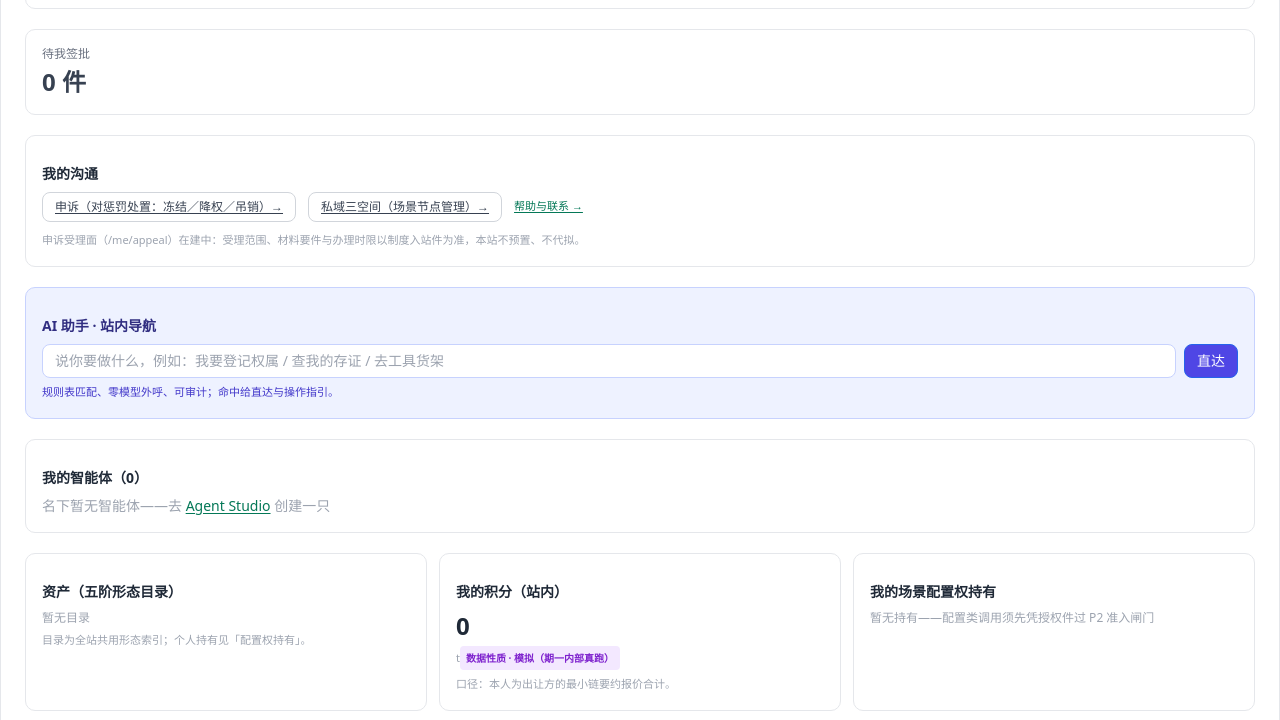
Test: 用户控制台 P1（me.tsx 扩充面） › AI 意图导航：输入 → 命中规则表 → 渲染标题＋直达链接（零模型外呼）
The image size is (1280, 720).
(page scrolled)
Expected: the element with test id "me-assistant" is shown, [25, 286, 1255, 418]
Step 1. Type "我要上架工具" into the field with test id "me-assistant-input" → [609, 360], box [42, 344, 1176, 378]
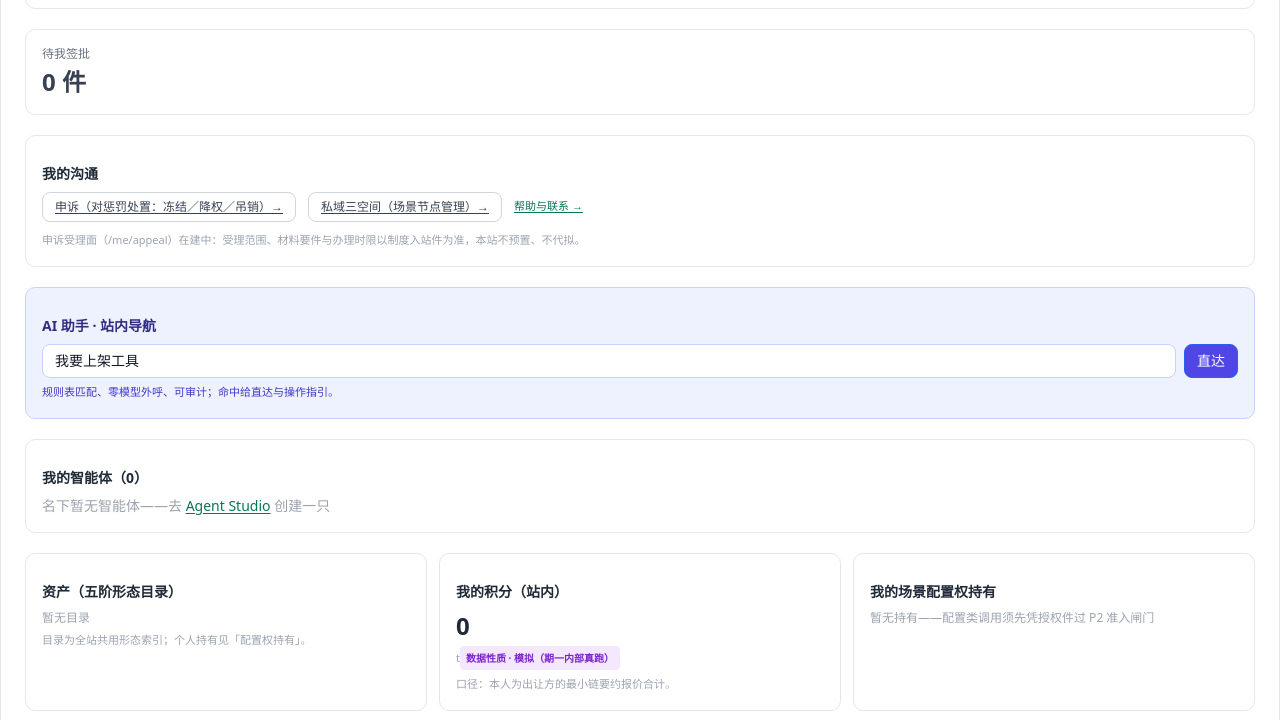
Step 2. Click the button with test id "me-assistant-go" → [1211, 360], box [1184, 344, 1238, 378]
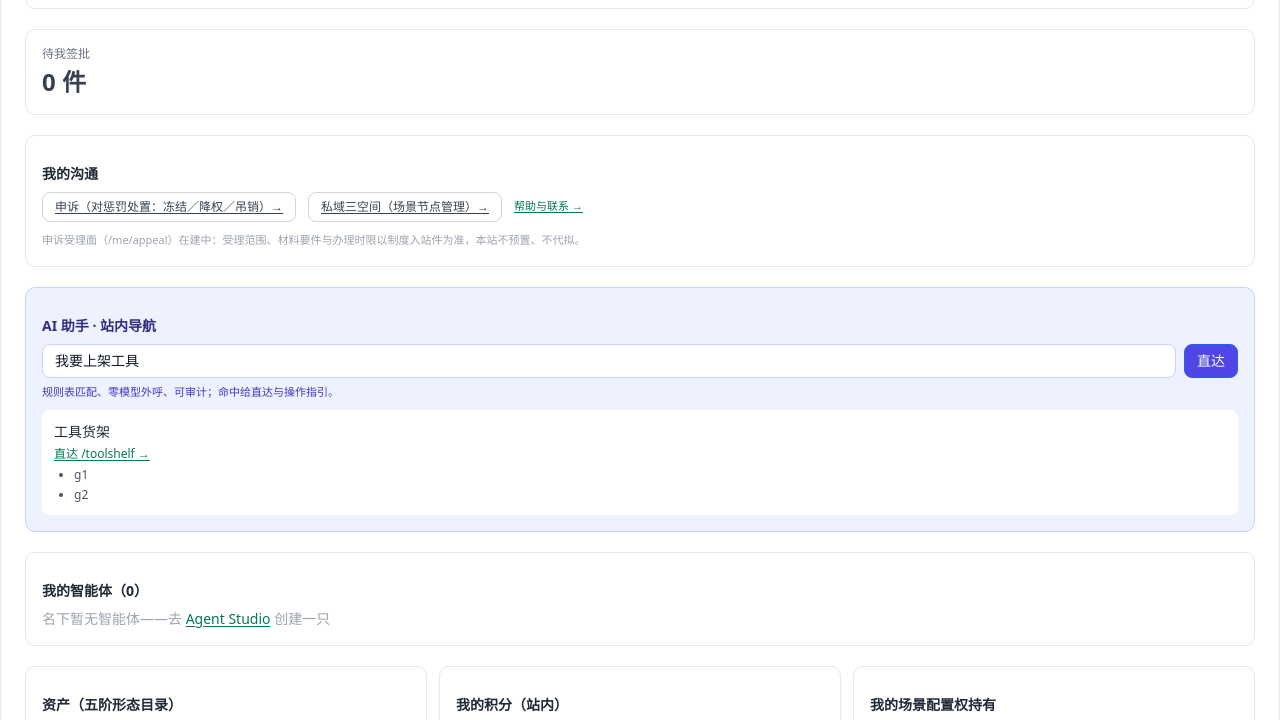
Result: the element with test id "me-assistant-result" is shown at [42, 410, 1238, 514]
Result: the element with test id "me-assistant-result" shows "工具货架" at [54, 422, 110, 440]
